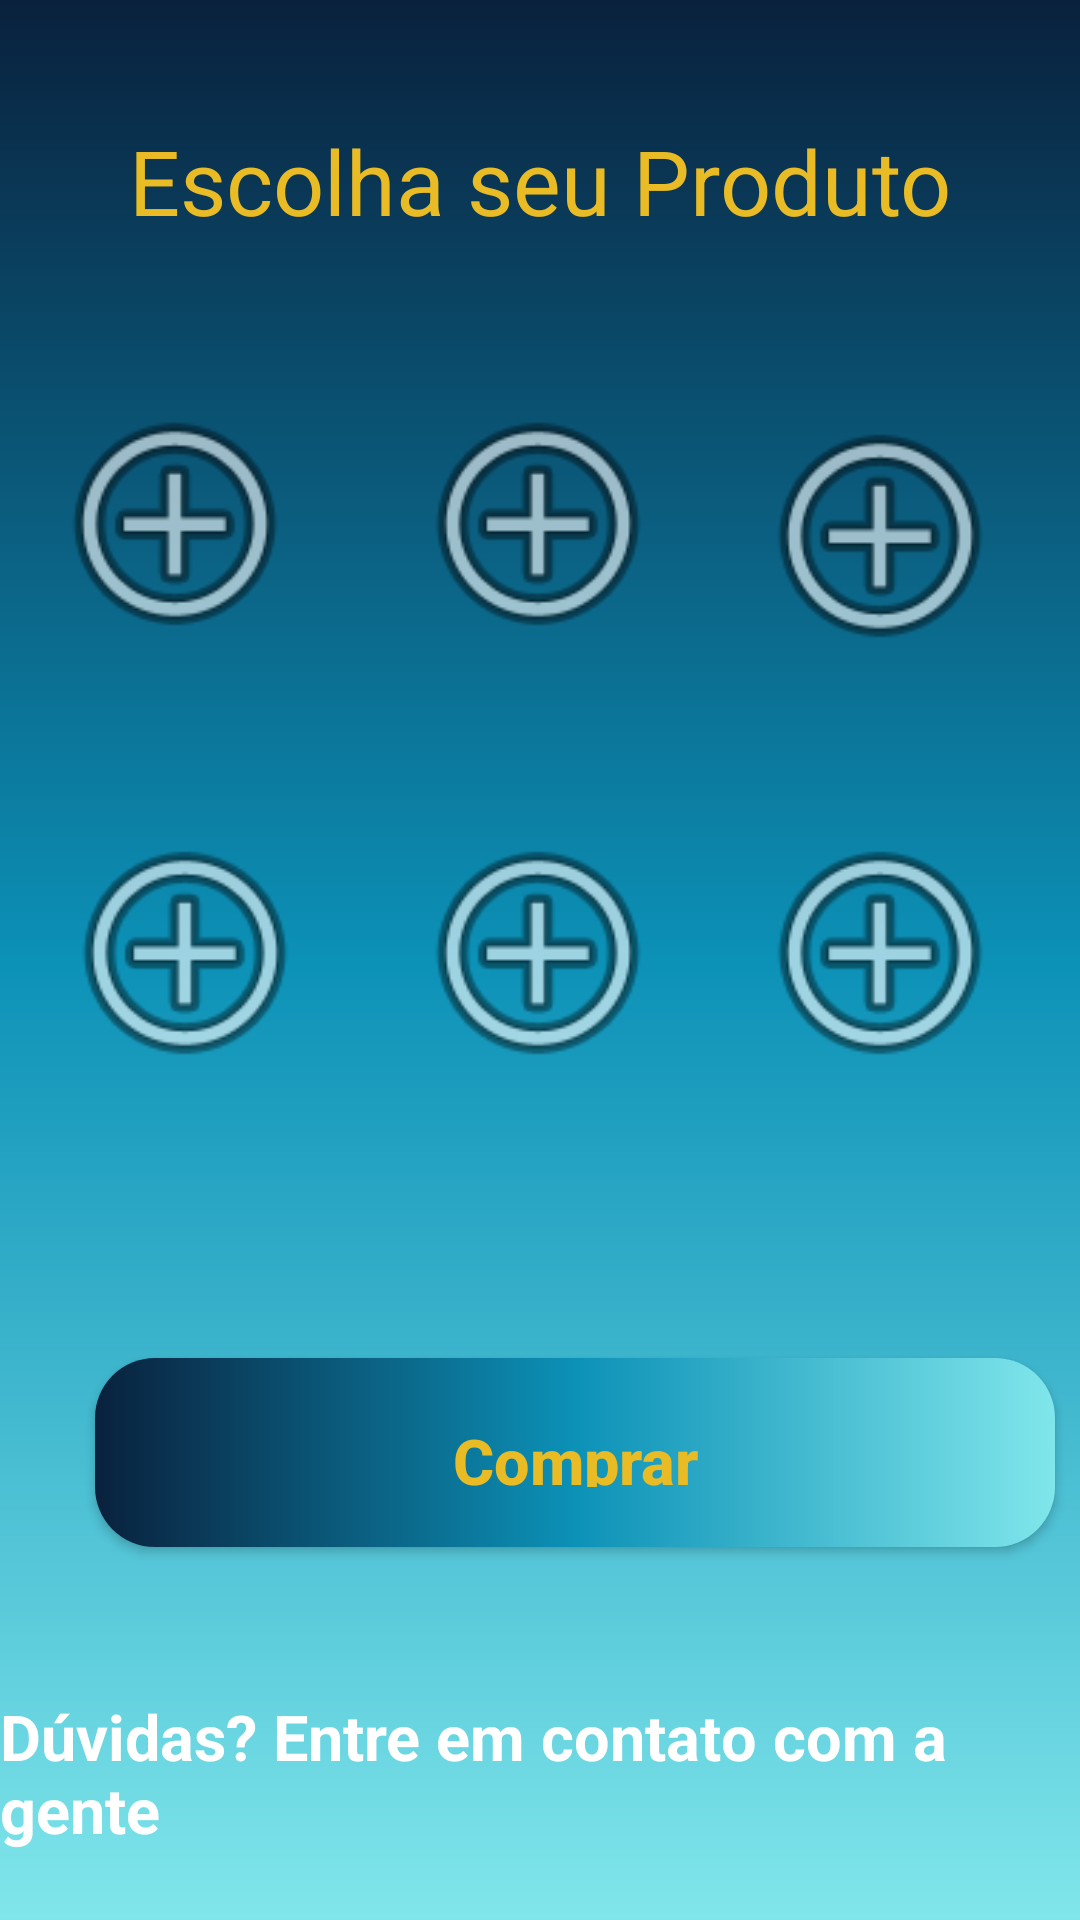

Where to tap for icons on this 1080px×1920px app screen, as (x=x, y=y):
add: (x=175, y=522), (x=538, y=522), (x=880, y=534), (x=185, y=934), (x=538, y=934), (x=880, y=934)
